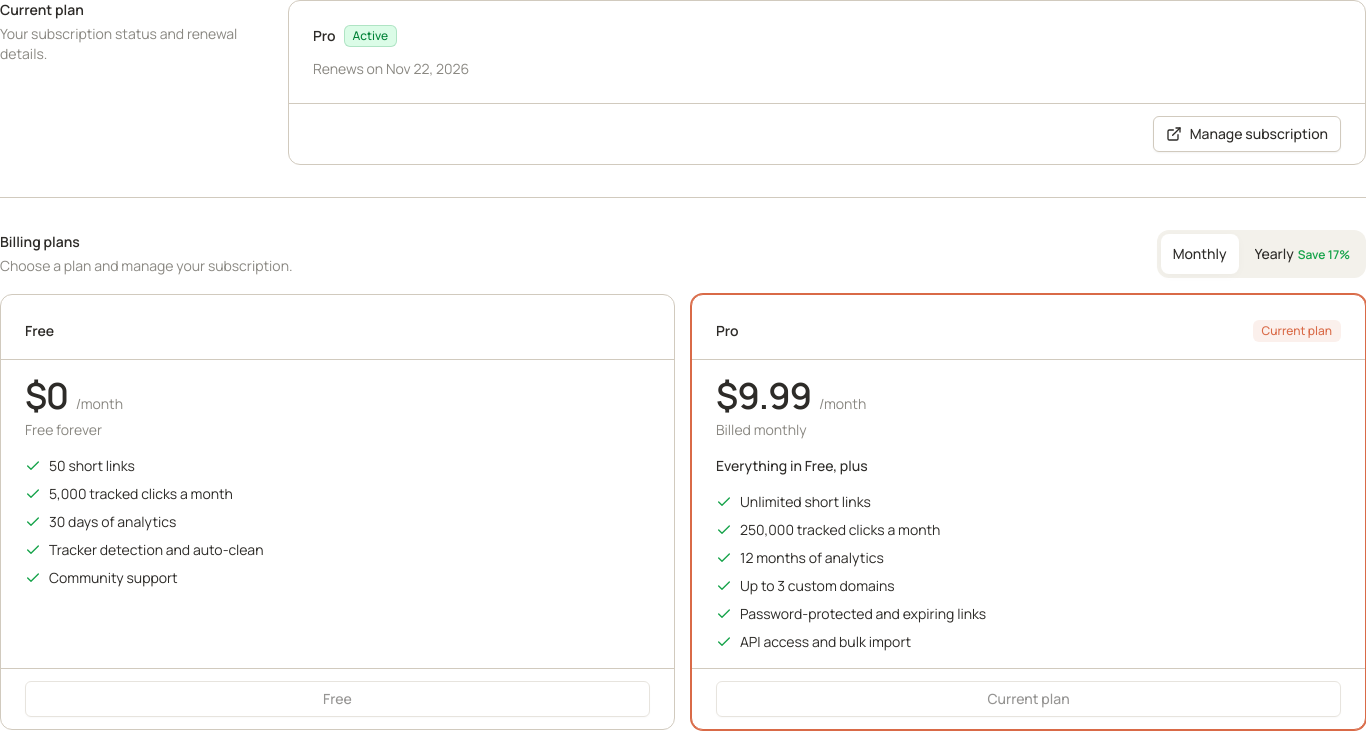
Test: BillingSettings portal return desktop › retains a yearly switch still reported by the subscription refresh
Expected: the element named "Pro plan" is shown, [691,294,1365,730]
Click the button "Yearly Save 17%".
click(1302, 254)  # box [1243,234,1362,274]
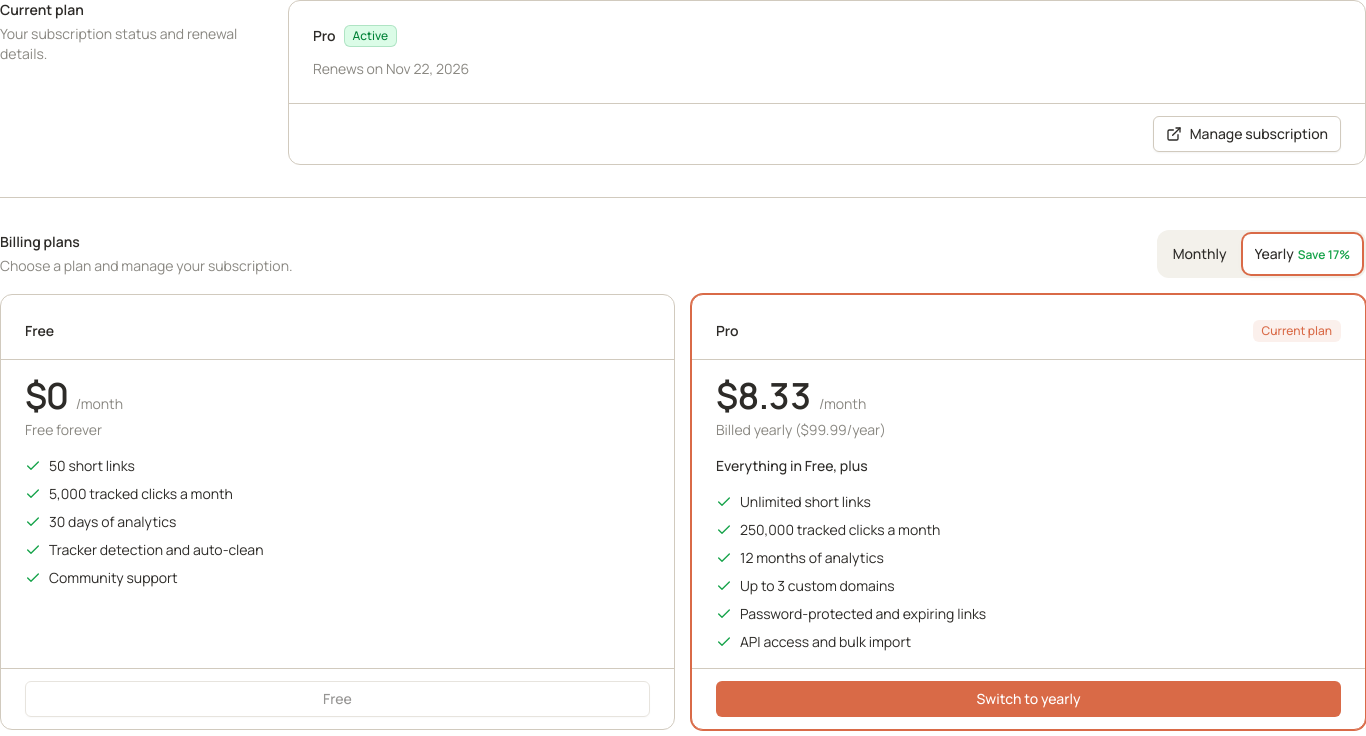
Click the button "Switch to yearly".
click(1028, 699)  # box [716,681,1341,717]
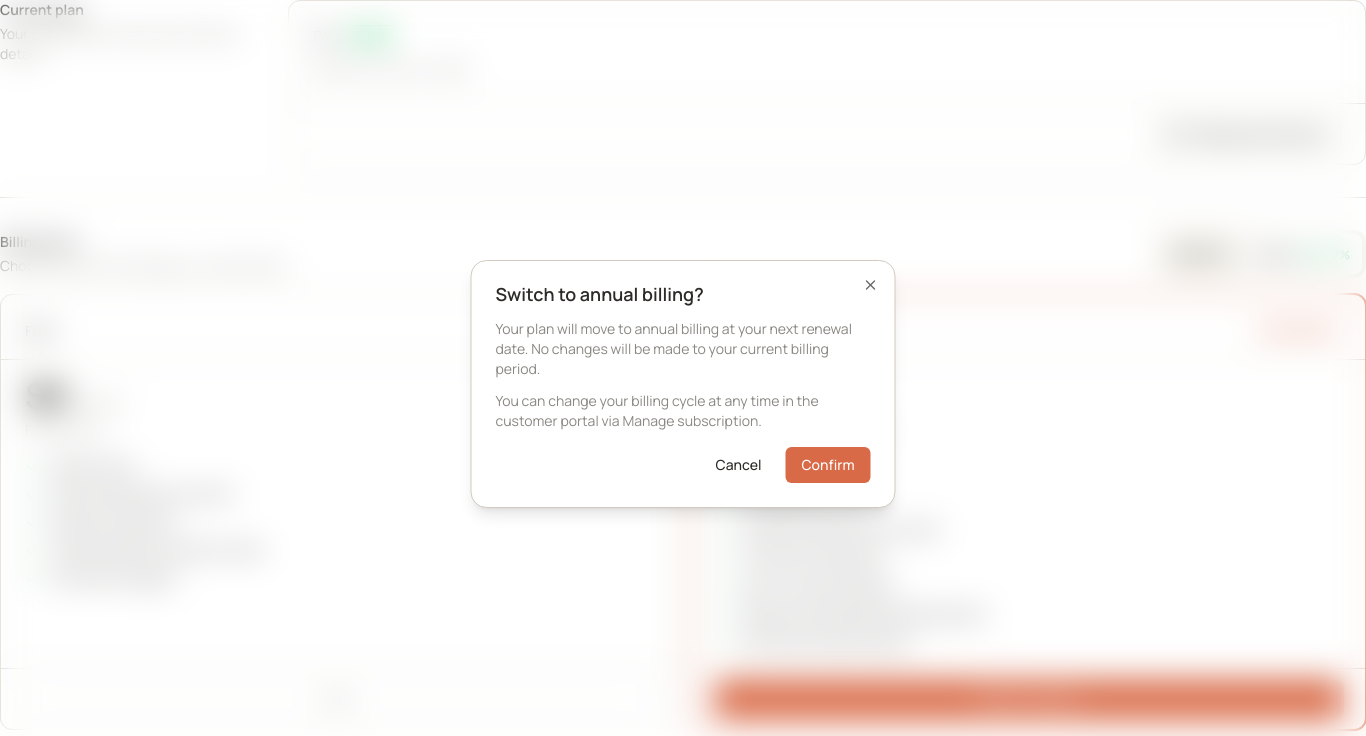
Click the button "Confirm".
click(828, 465)  # box [785,447,870,483]
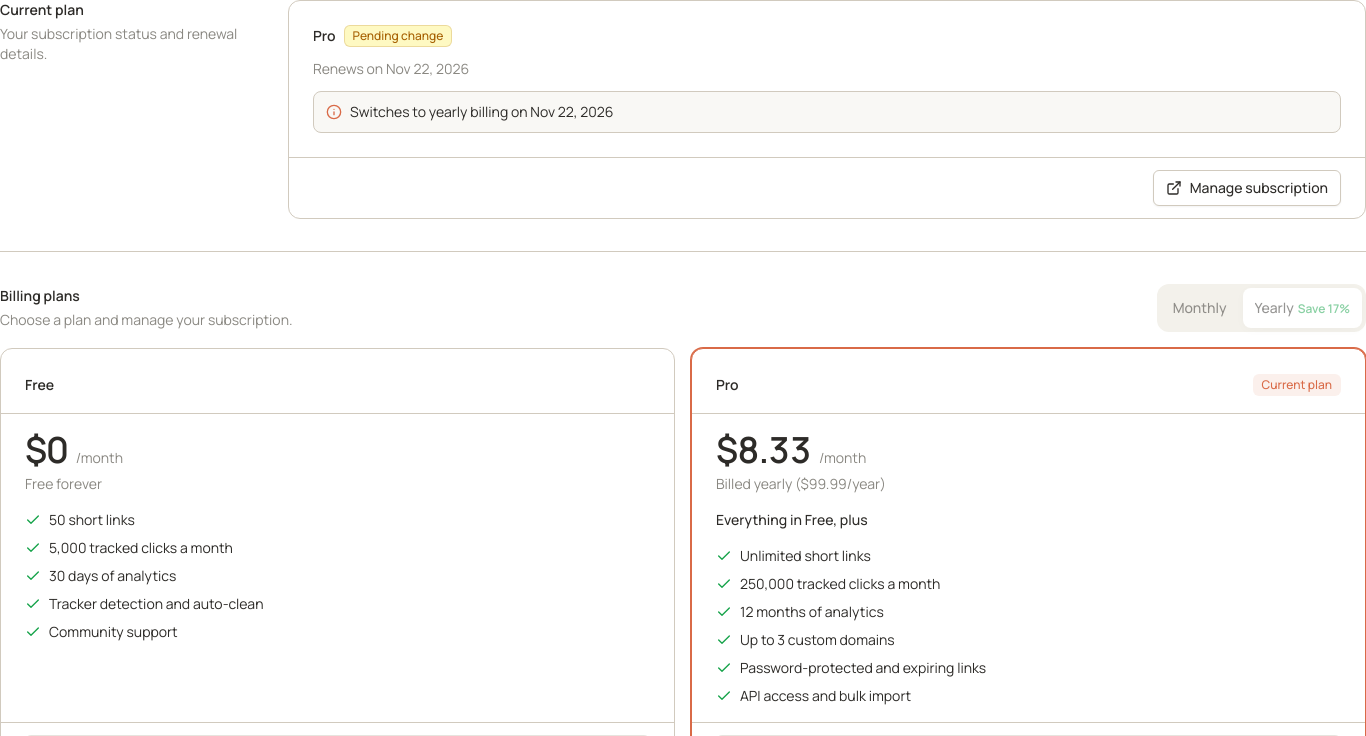
Click the button "Manage subscription".
click(1247, 188)  # box [1153,170,1341,206]
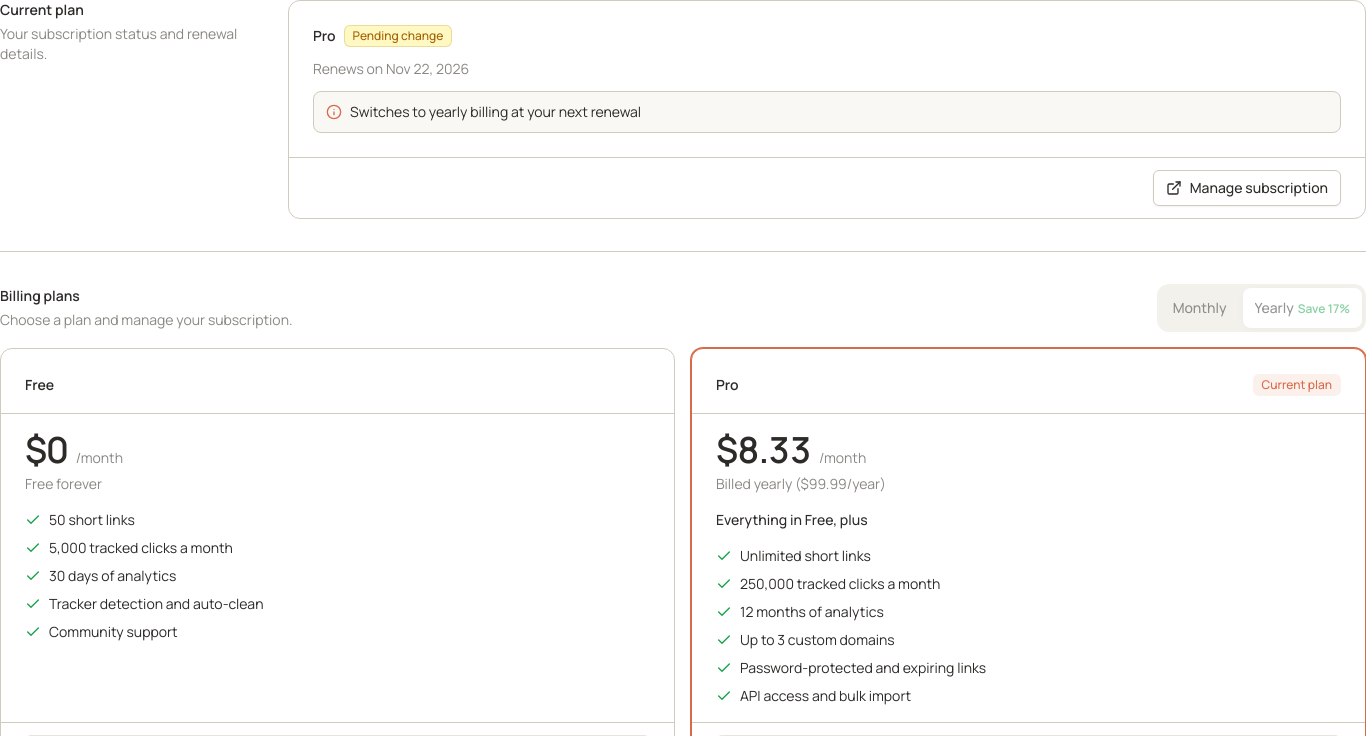
Expected: the button "Switch to yearly" is not shown
Now the button "Monthly" is disabled, box [1161,288,1239,328]
Now the text "Switches to yearly billing at your next renewal" is shown, box [350,102,641,122]
